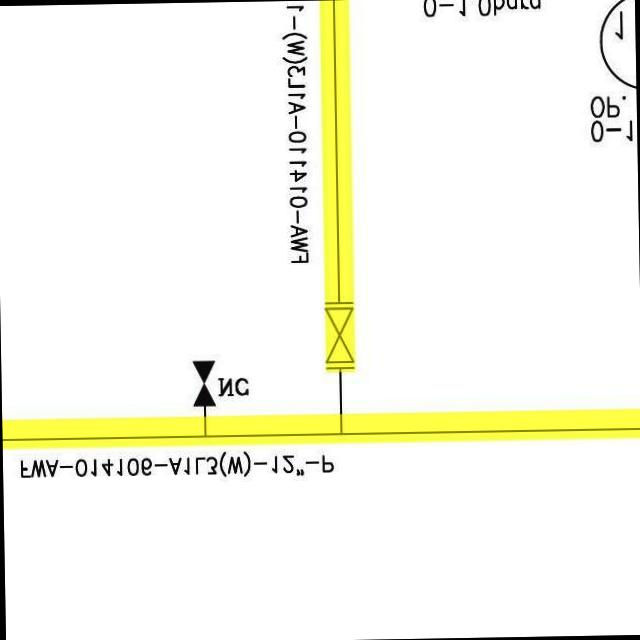GV: (318, 303, 366, 368)
